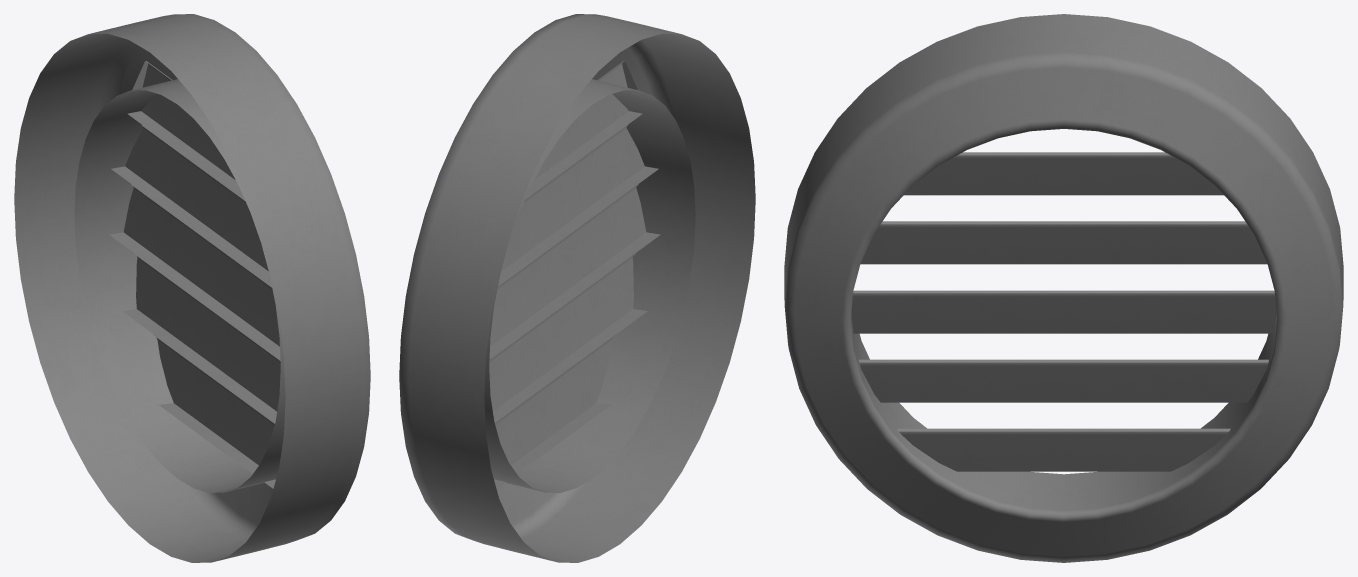
The model's file is wall_vent.glb.
3 renders of one model, left to right at view 1: azimuth 30°, elevation 25°; view 2: azimuth 150°, elevation 25°; view 3: azimuth 270°, elevation 25°, orthographic. The views are drawn at different scales.
Parts seen in each view (by area): view 1: Object_2; view 2: Object_2; view 3: Object_2.
Part boxes in pixels (bbox=[...]): Object_2: bbox=[14, 14, 370, 562]; Object_2: bbox=[399, 14, 755, 562]; Object_2: bbox=[784, 14, 1343, 562].
Size of the model in its own units: 0.4595 by 1.98 by 1.98.
Materials: 1 (1 with a texture image).
